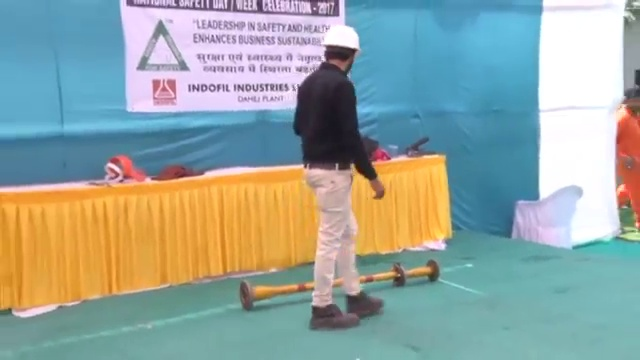helmet: (320, 24, 364, 53)
helmet_on: (318, 23, 365, 78)
person: (286, 22, 386, 331)
